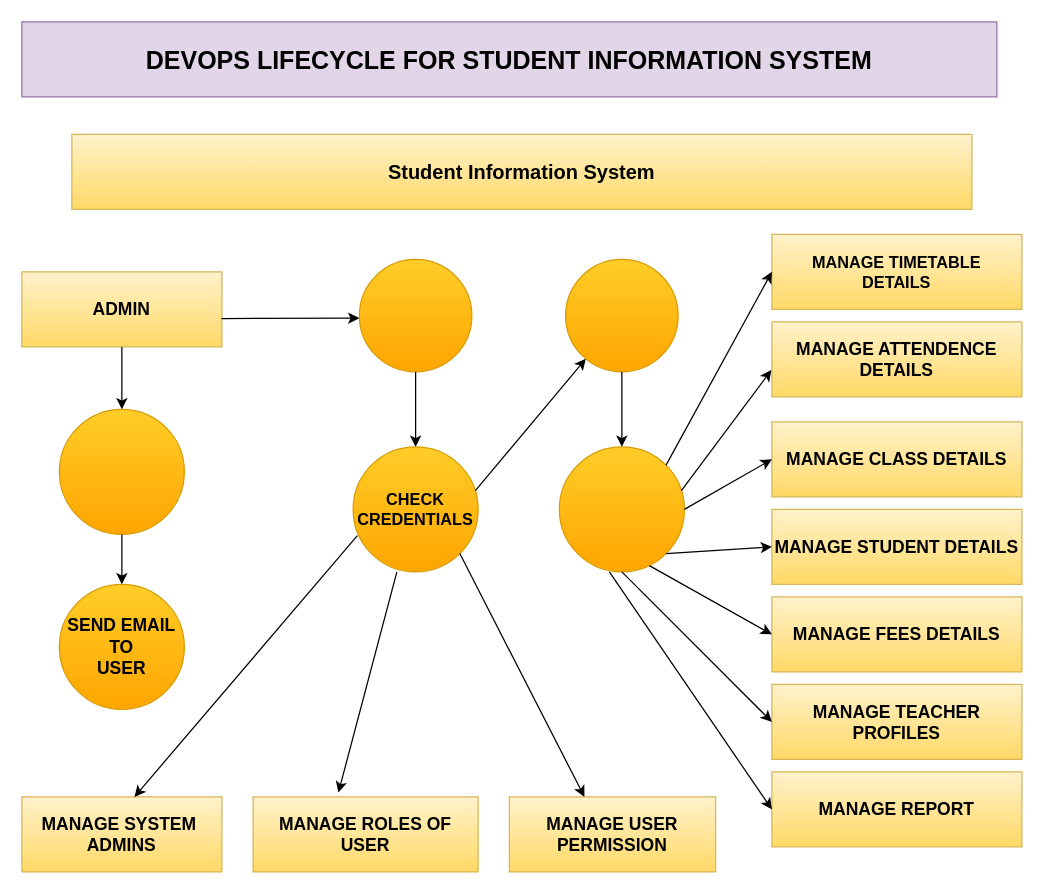
The diagram is 1044 pixels wide and 894 high, and some of its shapes have lost their labels. Here are the shapes that lost their labels. From the top down, the centre of each, then its label:
At point (415, 315): "LOGIN TO SYSTEM".
At point (621, 315): "CHECK ROLES OF ACCESS".
At point (121, 471): "FORGET PASSWORD".
At point (621, 509): "MANAGE MODULES".
